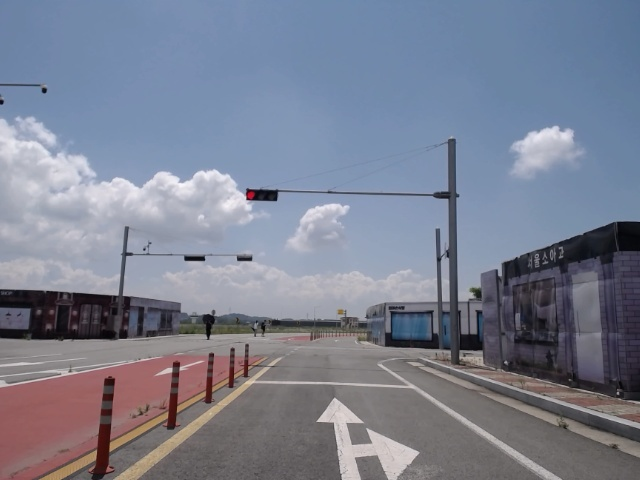red_3: (244, 187, 279, 202)
